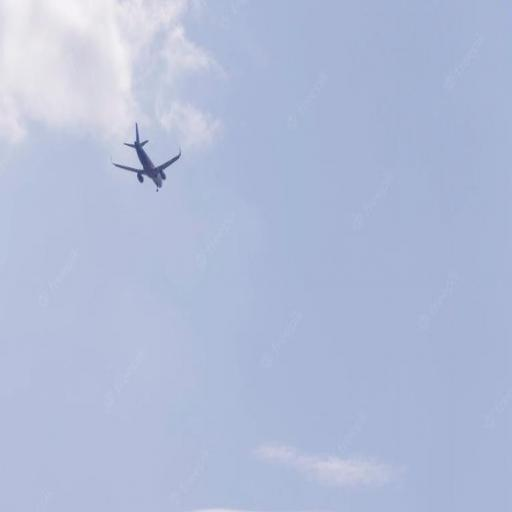aircraft: (109, 122, 181, 192)
